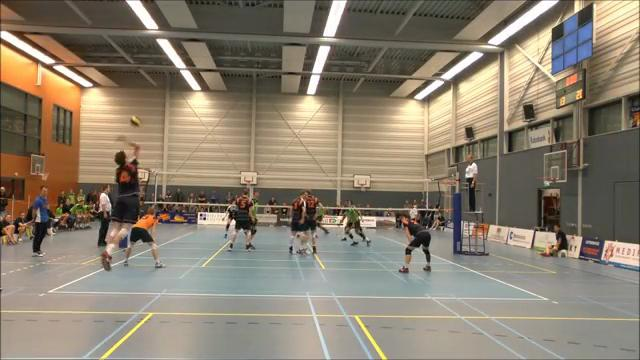battuta: (98, 131, 141, 273)
